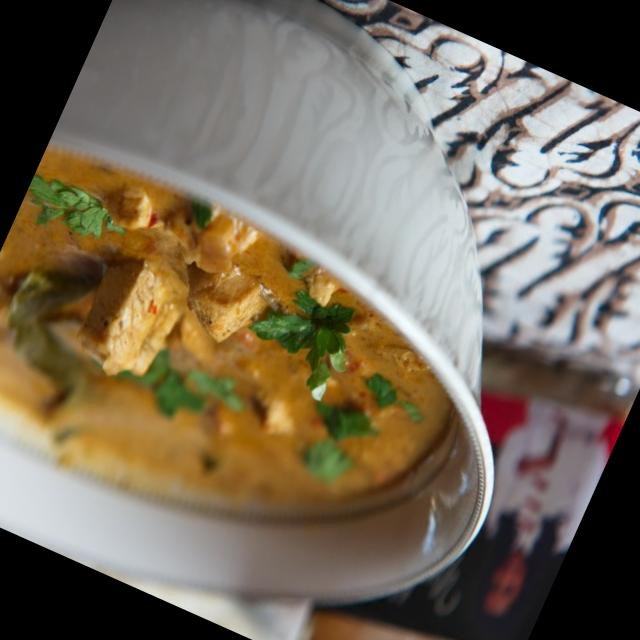ShahiPaneer: (0, 132, 487, 615)
